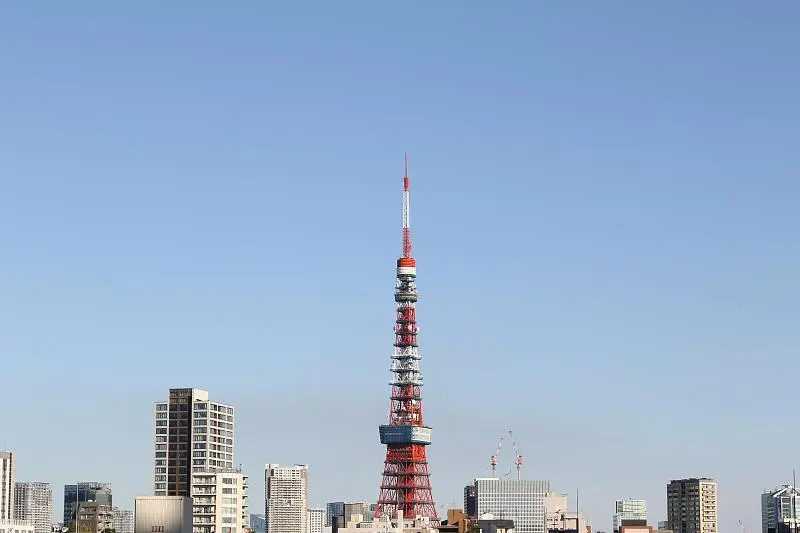Tokyo: (373, 150, 441, 531)
